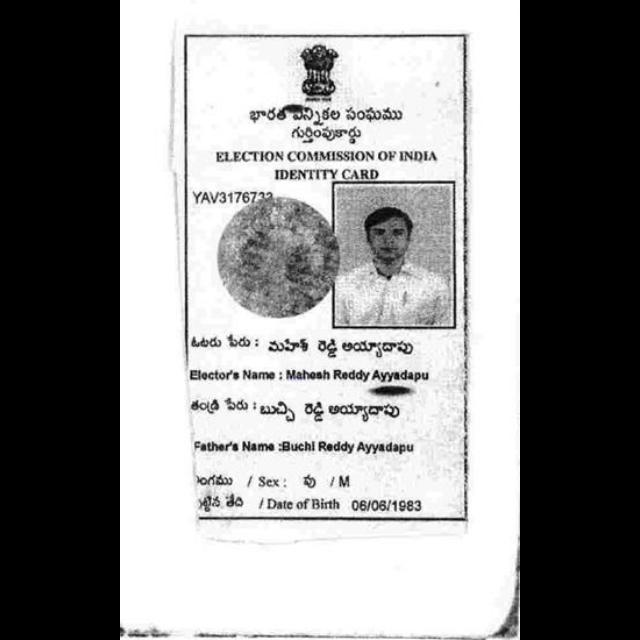voter_id: (178, 29, 474, 535)
